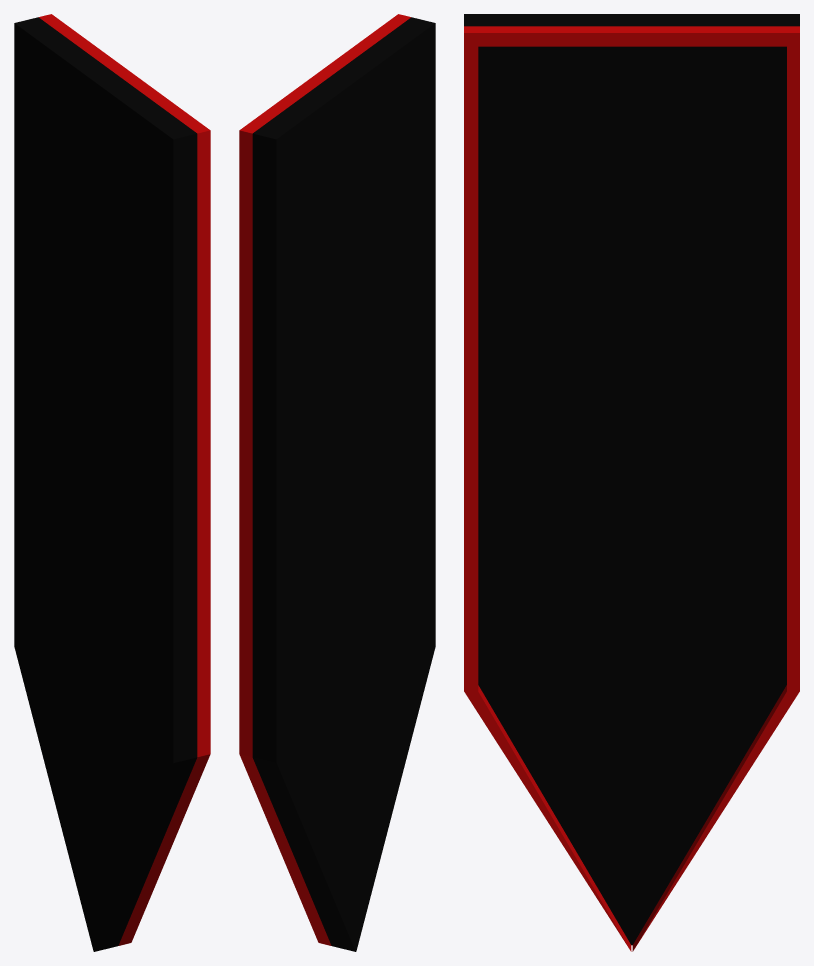
Rendered from Open Sign.fbx.
3 renders of one model, left to right at view 1: azimuth 30°, elevation 25°; view 2: azimuth 150°, elevation 25°; view 3: azimuth 270°, elevation 25°, orthographic. The views are drawn at different scales.
Visible parts, largest first — view 1: Cube (×2); view 2: Cube (×2); view 3: Cube (×2).
Part boxes in pixels (x1=…): Cube (×2): x1=14, y1=14, x2=210, y2=951; Cube (×2): x1=239, y1=14, x2=435, y2=951; Cube (×2): x1=464, y1=14, x2=799, y2=951.
Bounding box in the file's own units: 27.02 × 604 × 200.
